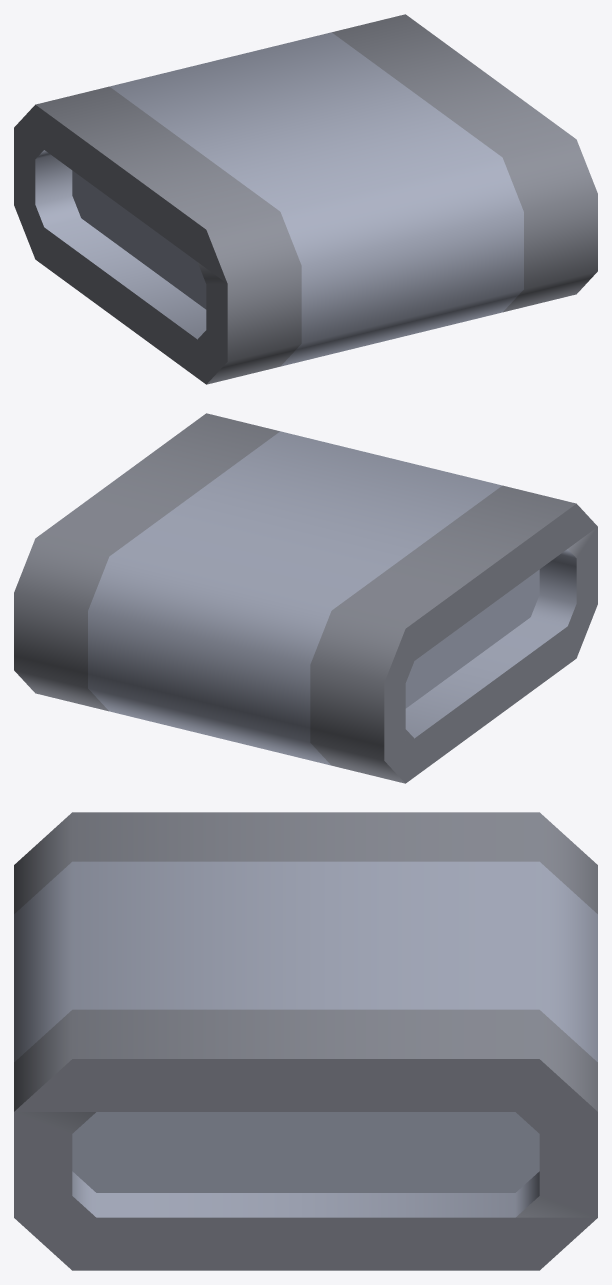
The model's file is conveyor-stripe.fbx.
3 views of the same model, one above another, from view 1: azimuth 30°, elevation 25°; view 2: azimuth 150°, elevation 25°; view 3: azimuth 270°, elevation 25° (orthographic). The views are drawn at different scales.
Parts seen in each view (by area): view 1: conveyor-stripe; view 2: conveyor-stripe; view 3: conveyor-stripe.
Boxes of the visible parts, x1,y1,x2,y2 form: conveyor-stripe: (14, 14, 597, 384); conveyor-stripe: (14, 413, 597, 783); conveyor-stripe: (14, 812, 597, 1270).
Bounding box in the file's own units: 100 × 40 × 100.
